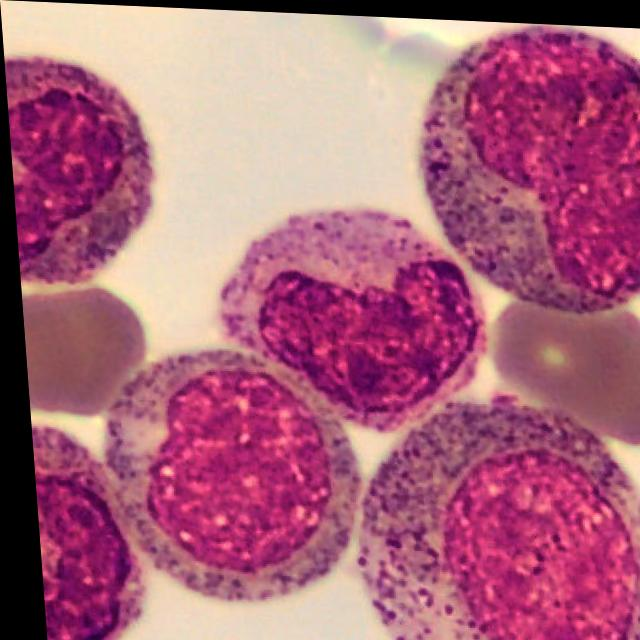Metamielocito: (99, 350, 352, 596), (423, 22, 640, 305), (218, 207, 480, 426)
Mielocito: (350, 399, 640, 640)
